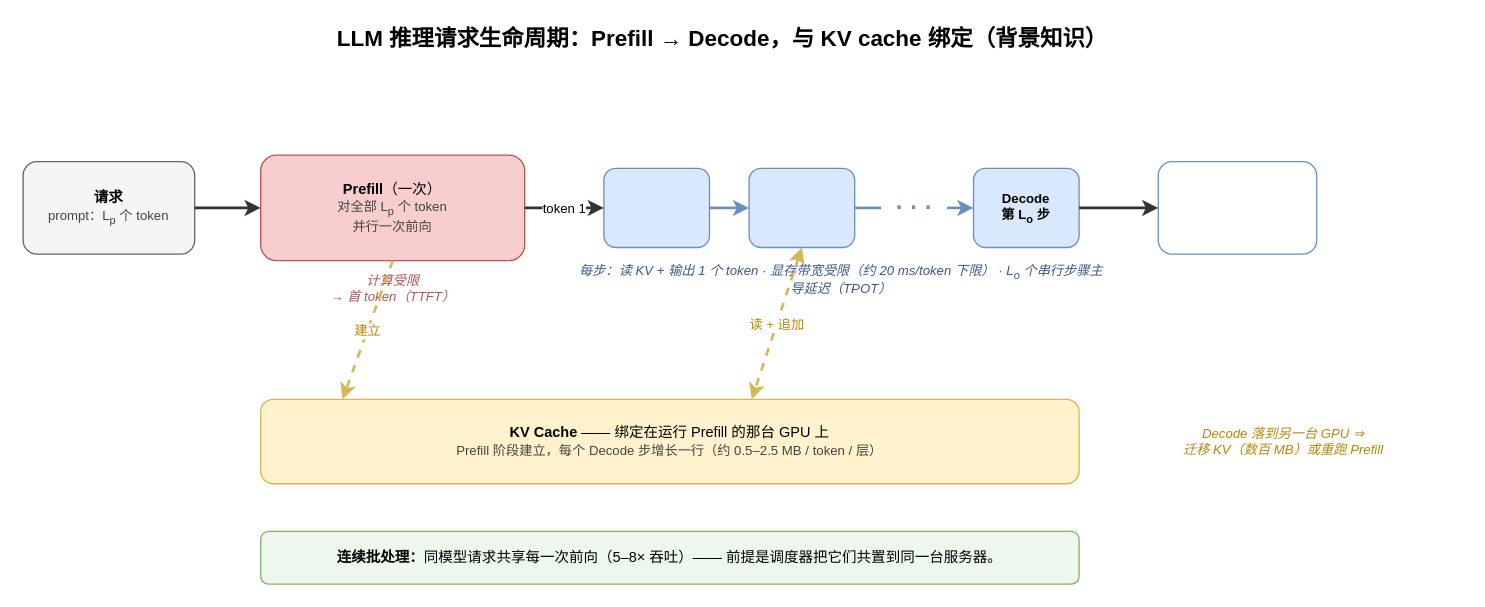
The diagram is 1485 pixels wide and 607 high, and some of its shapes have lost their labels. The shapes that lost their labels are listed below. From the top down, each one's centre as x and y in pixels, then its label:
pixel 656 207: Decode 第 1 步
pixel 801 207: Decode 第 2 步
pixel 1237 207: 输出 L o 个 token
